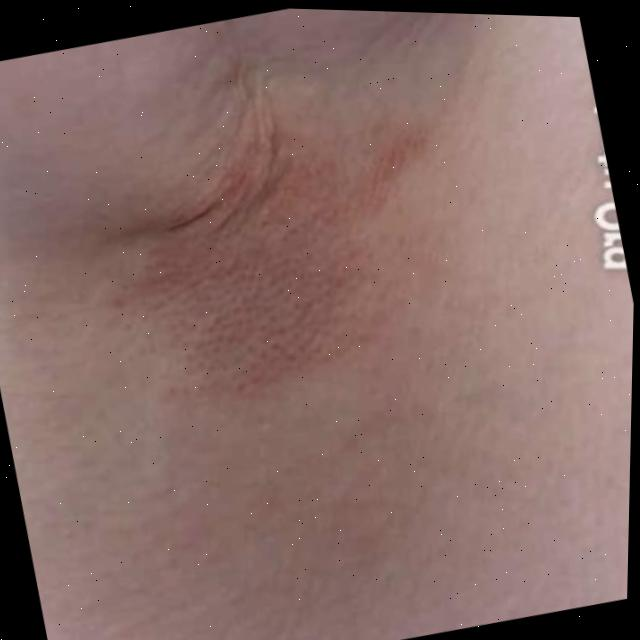Eczema: (135, 129, 384, 389)
